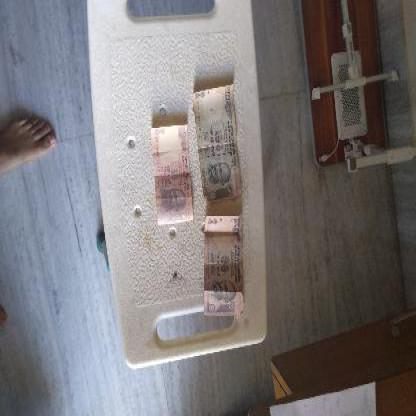Old100Front: (193, 92, 246, 204)
Old10Front: (151, 128, 193, 224)
Old50Front: (206, 216, 240, 316)
